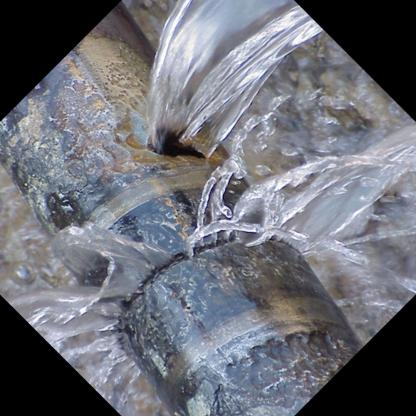burst: (83, 204, 337, 349), (132, 107, 220, 181)
